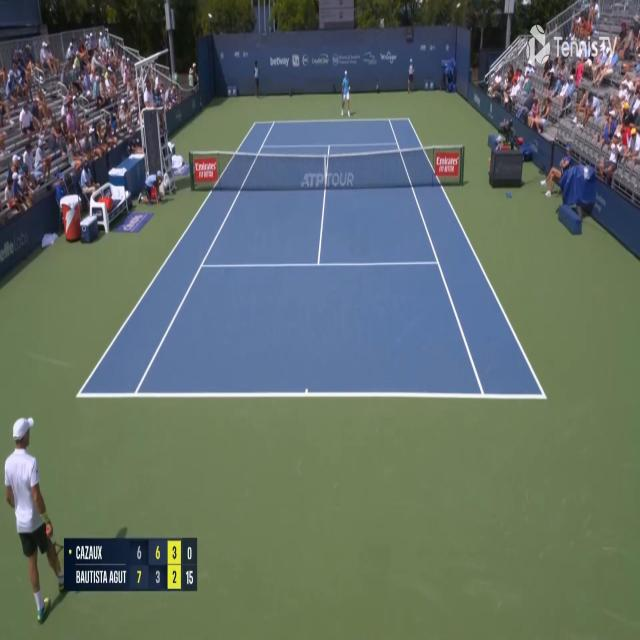tennis-player: (4, 410, 68, 631), (334, 67, 352, 118)
